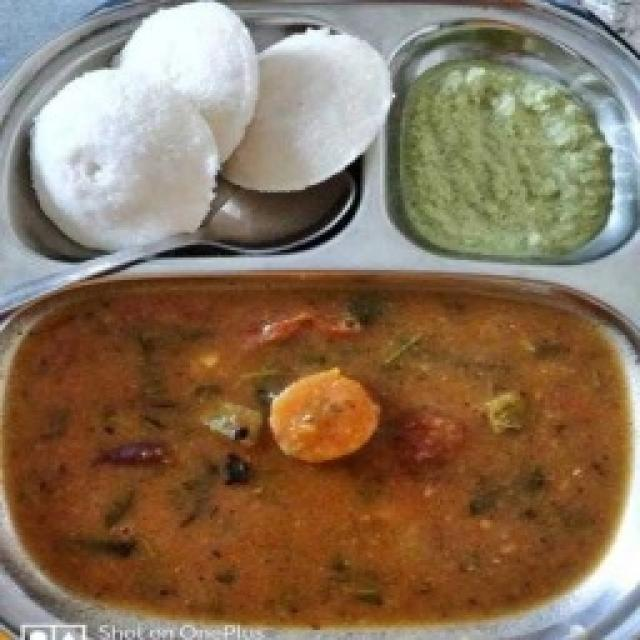idli: (70, 22, 361, 228)
